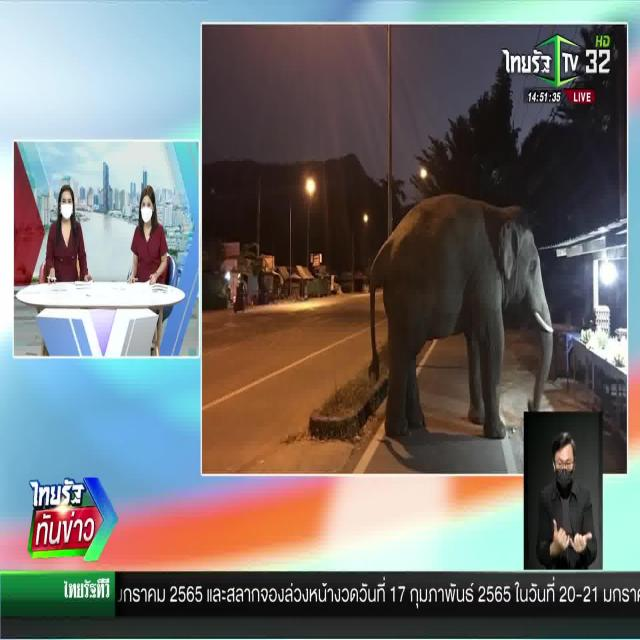Elephant: (368, 194, 553, 394)
